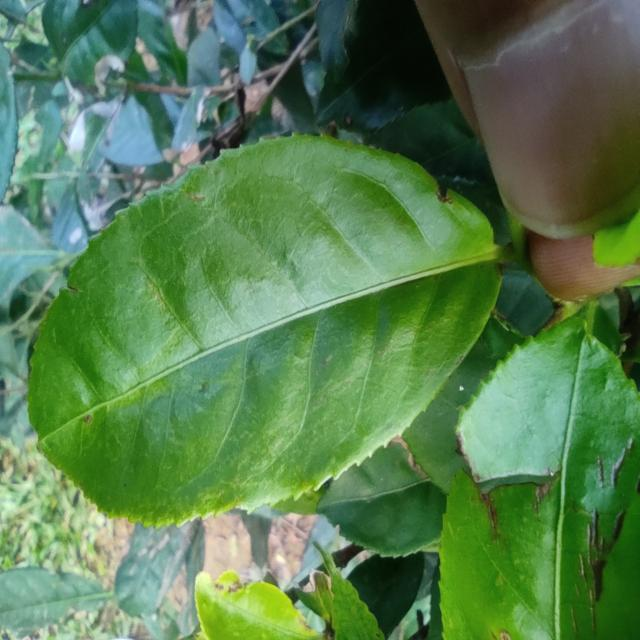Category C 4-7 days: (12, 113, 521, 548)
